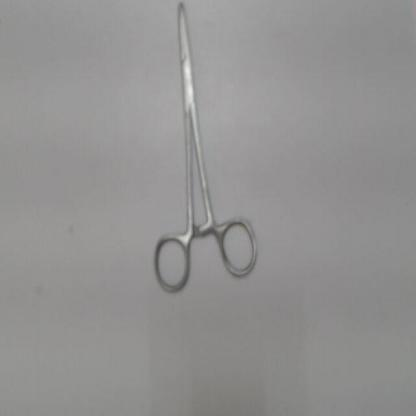Mayo Needle Holder: (145, 2, 268, 303)
